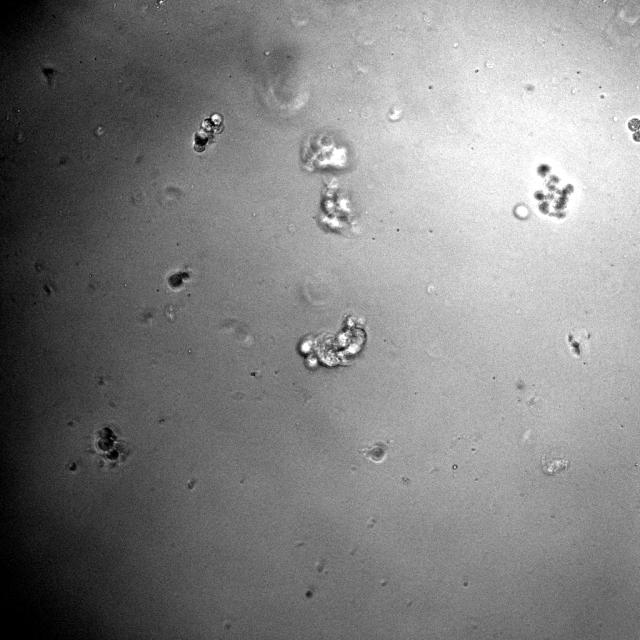organoid: (298, 313, 367, 369), (533, 164, 575, 219), (301, 132, 352, 172), (318, 180, 354, 232), (194, 112, 223, 152), (95, 426, 120, 461), (628, 118, 639, 142)
